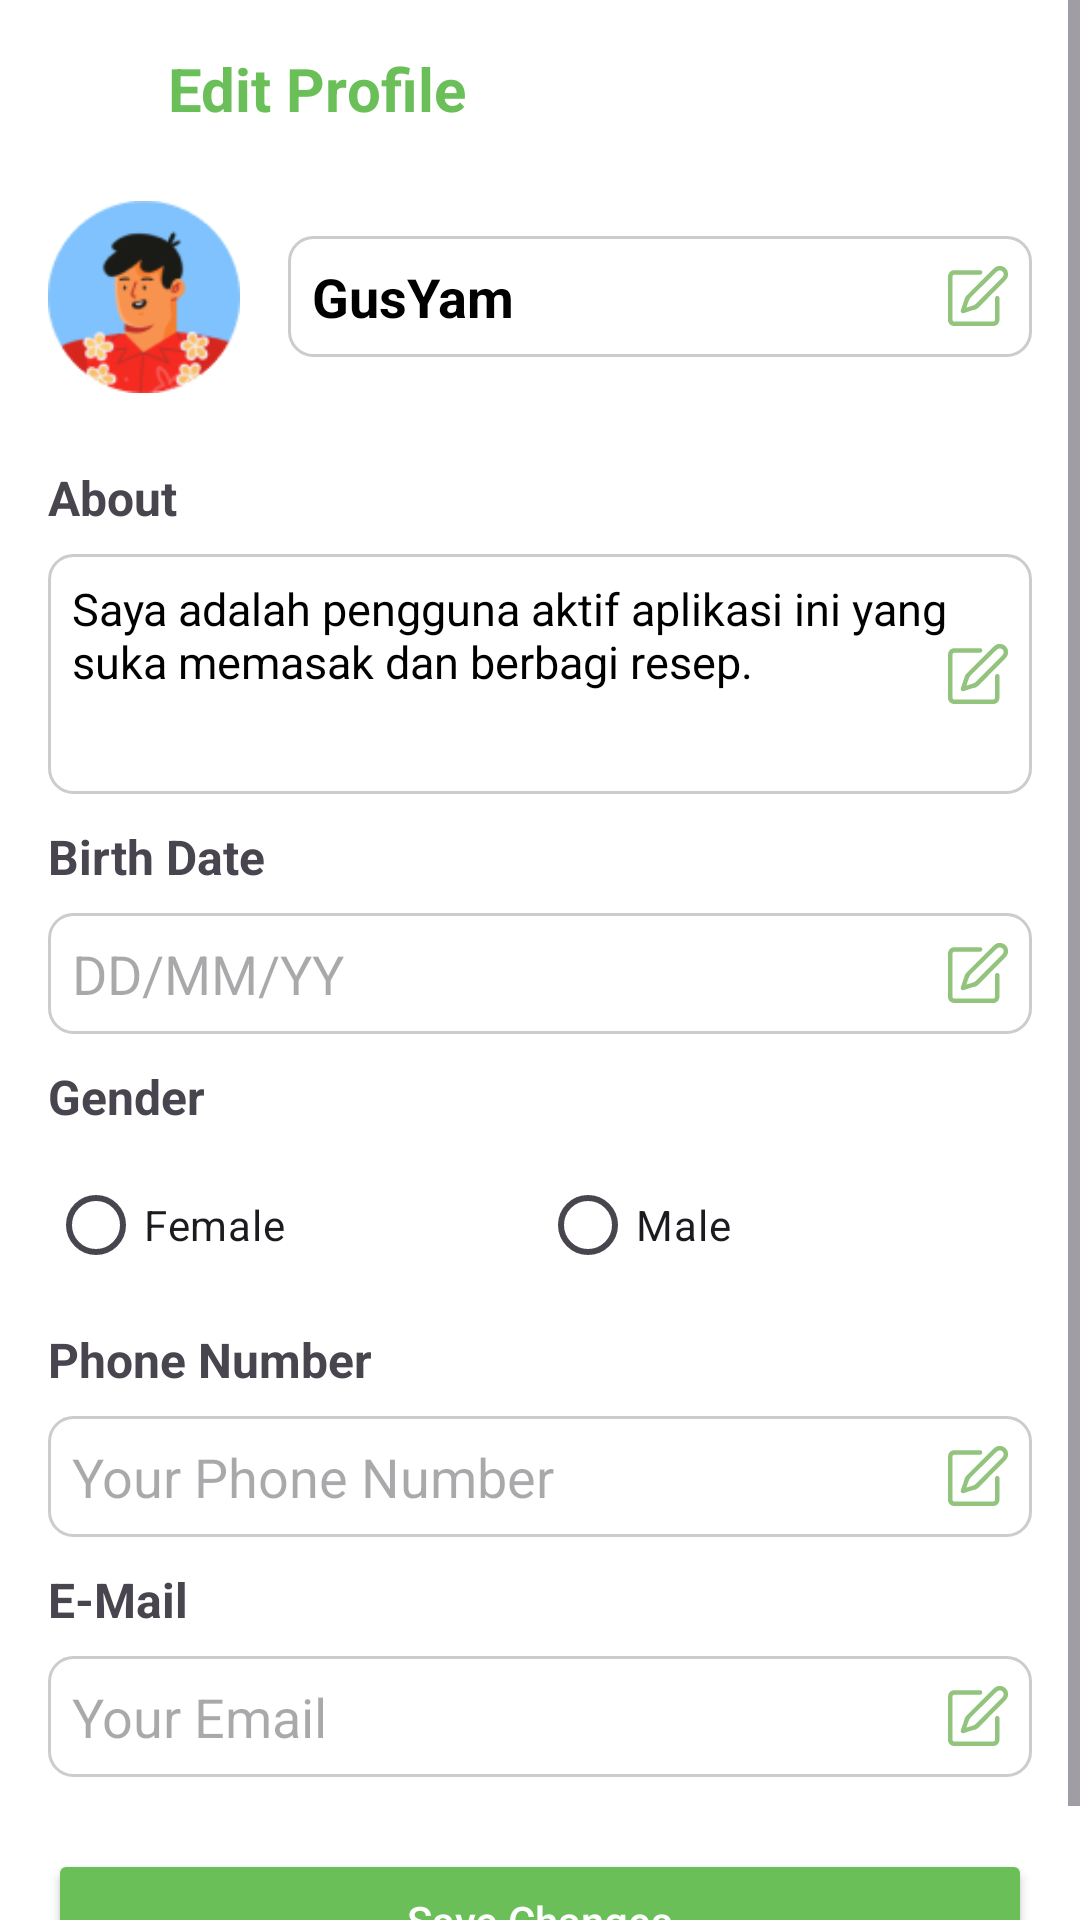

Icons on this 1080x1920 Android screen, each with its box as (x1, y1, x2, y2):
edit: (948, 266, 1008, 326), (948, 644, 1008, 704), (948, 943, 1008, 1003), (948, 1446, 1008, 1506), (948, 1686, 1008, 1746)
profile temporary: (48, 201, 240, 393)
